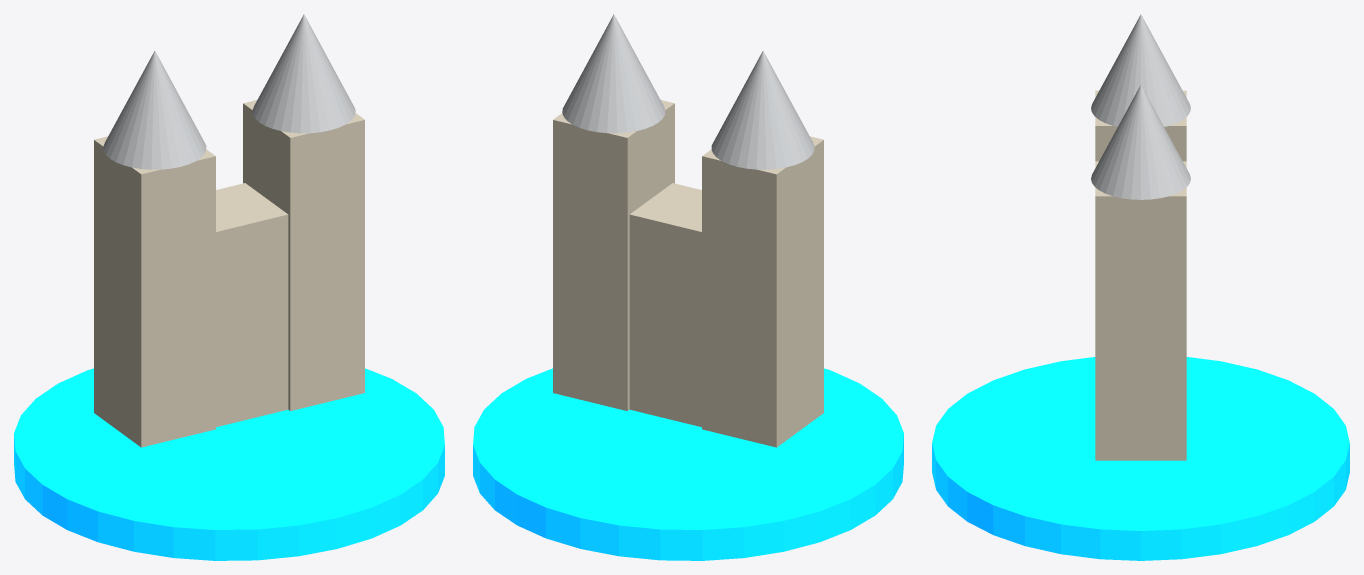
File: french_cathedral.glb
3 views of the same model, side by side, from view 1: azimuth 30°, elevation 25°; view 2: azimuth 150°, elevation 25°; view 3: azimuth 270°, elevation 25° (orthographic). The views are drawn at different scales.
Parts seen in each view (by area): view 1: 10_16_Popular_French_Cathedral_ROOT_base, 10_16_Popular_French_Cathedral_part_01, 10_16_Popular_French_Cathedral_part_02, 10_16_Popular_French_Cathedral_part_05, 10_16_Popular_French_Cathedral_part_04, 10_16_Popular_French_Cathedral_part_03; view 2: 10_16_Popular_French_Cathedral_ROOT_base, 10_16_Popular_French_Cathedral_part_01, 10_16_Popular_French_Cathedral_part_02, 10_16_Popular_French_Cathedral_part_05, 10_16_Popular_French_Cathedral_part_04, 10_16_Popular_French_Cathedral_part_03; view 3: 10_16_Popular_French_Cathedral_ROOT_base, 10_16_Popular_French_Cathedral_part_02, 10_16_Popular_French_Cathedral_part_04, 10_16_Popular_French_Cathedral_part_03, 10_16_Popular_French_Cathedral_part_01.
Boxes of the visible parts, x1,y1,x2,y2 form: 10_16_Popular_French_Cathedral_ROOT_base: (14, 368, 444, 560); 10_16_Popular_French_Cathedral_part_01: (94, 136, 215, 447); 10_16_Popular_French_Cathedral_part_02: (243, 100, 364, 410); 10_16_Popular_French_Cathedral_part_05: (216, 183, 288, 427); 10_16_Popular_French_Cathedral_part_04: (252, 14, 355, 133); 10_16_Popular_French_Cathedral_part_03: (103, 51, 206, 169); 10_16_Popular_French_Cathedral_ROOT_base: (473, 368, 903, 560); 10_16_Popular_French_Cathedral_part_01: (702, 136, 823, 447); 10_16_Popular_French_Cathedral_part_02: (553, 100, 674, 410); 10_16_Popular_French_Cathedral_part_05: (629, 183, 701, 427); 10_16_Popular_French_Cathedral_part_04: (562, 14, 665, 133); 10_16_Popular_French_Cathedral_part_03: (711, 51, 814, 169); 10_16_Popular_French_Cathedral_ROOT_base: (932, 357, 1349, 560); 10_16_Popular_French_Cathedral_part_02: (1095, 161, 1186, 460); 10_16_Popular_French_Cathedral_part_04: (1091, 85, 1190, 199); 10_16_Popular_French_Cathedral_part_03: (1091, 14, 1190, 126); 10_16_Popular_French_Cathedral_part_01: (1095, 90, 1186, 161).
Bounding box in the file's own units: 0.76 × 0.85 × 0.76.
